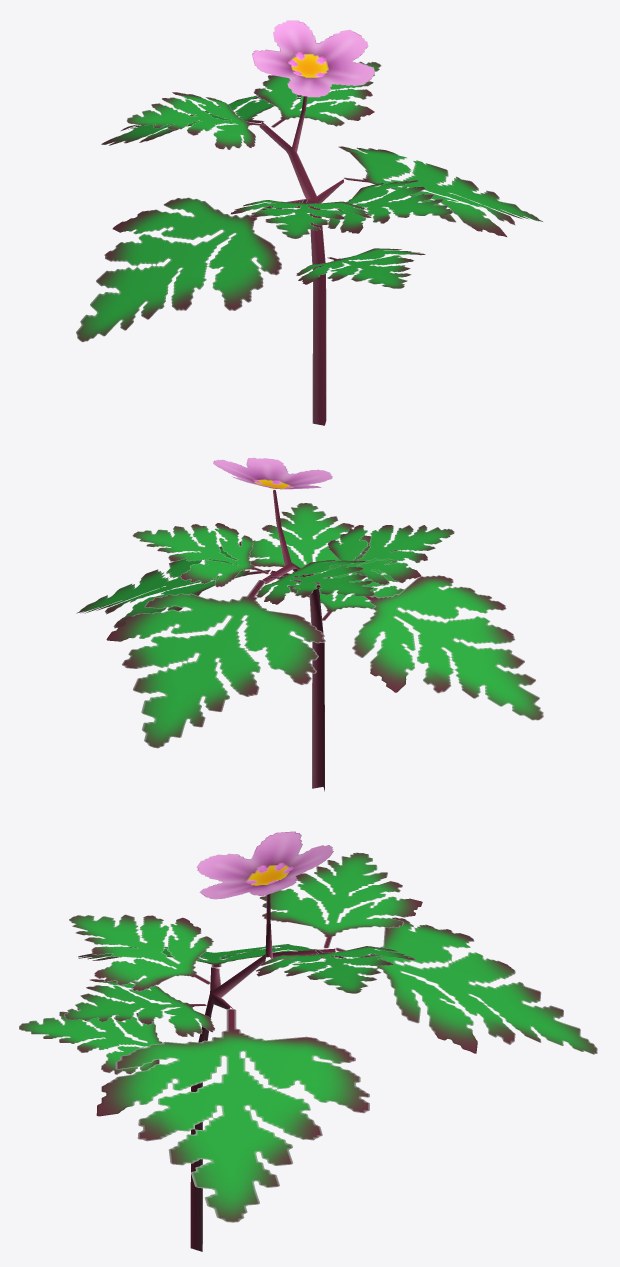
File: herb_robert.fbx
3 views of the same model, one above another, from view 1: azimuth 30°, elevation 25°; view 2: azimuth 150°, elevation 25°; view 3: azimuth 270°, elevation 25° (orthographic). The views are drawn at different scales.
Visible parts, largest first — view 1: herb_robert; view 2: herb_robert; view 3: herb_robert.
Boxes of the visible parts, x1,y1,x2,y2 form: herb_robert: (76, 20, 542, 425); herb_robert: (76, 457, 543, 791); herb_robert: (19, 831, 597, 1251).
Size of the model in its own units: 200 by 143 by 184.
Materials: 1 (1 with a texture image).
